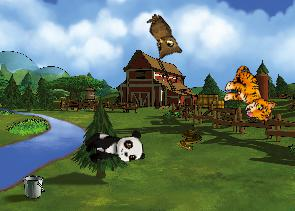owl: (135, 11, 186, 65)
panda: (83, 129, 145, 166)
tiger: (217, 62, 284, 125)
